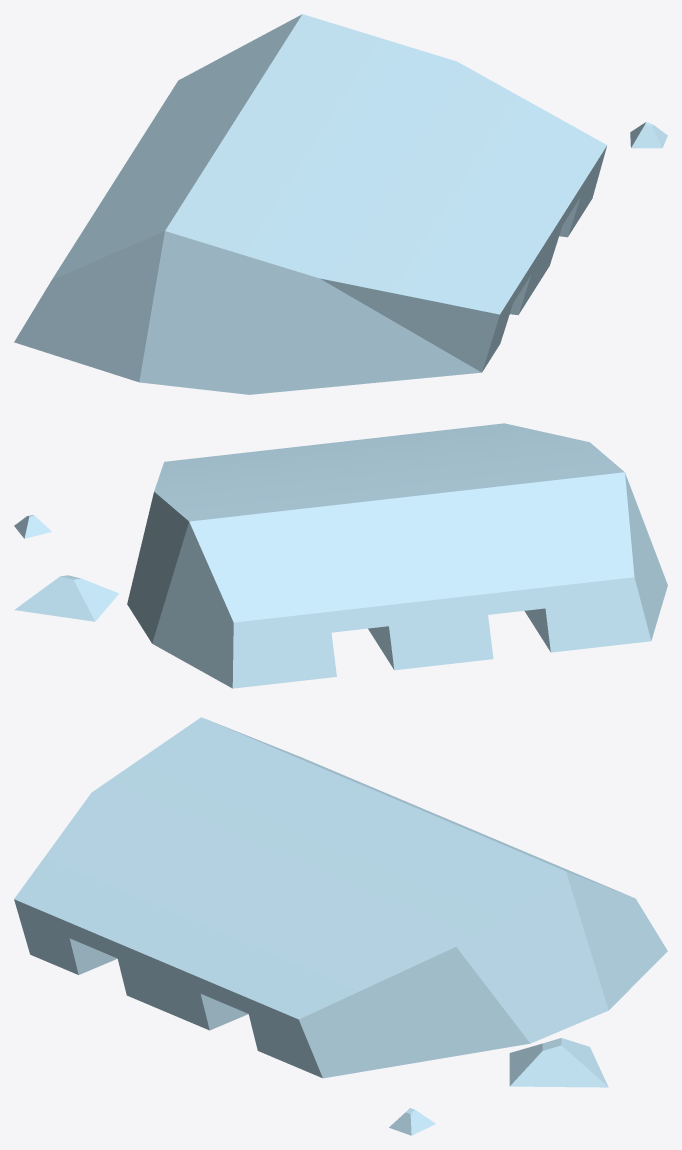
Rendered from NeutralStone3.fbx.
3 renders of one model, top to bottom at view 1: azimuth 30°, elevation 25°; view 2: azimuth 150°, elevation 25°; view 3: azimuth 270°, elevation 25°, orthographic. The views are drawn at different scales.
Visible parts, largest first — view 1: NeutralStone3_LOD0; view 2: NeutralStone3_LOD0; view 3: NeutralStone3_LOD0.
Boxes of the visible parts, left/top/right/bottom form: NeutralStone3_LOD0: left=14, top=14, right=667, bottom=394; NeutralStone3_LOD0: left=14, top=423, right=667, bottom=688; NeutralStone3_LOD0: left=14, top=717, right=667, bottom=1135.
Size of what is drawn, in the model's own units: 305 by 55.17 by 253.
